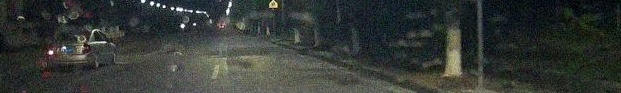L_light: (48, 45, 57, 55)
R_light: (82, 43, 91, 54)
T_light: (73, 31, 80, 33)
night-left: (47, 29, 91, 71)
